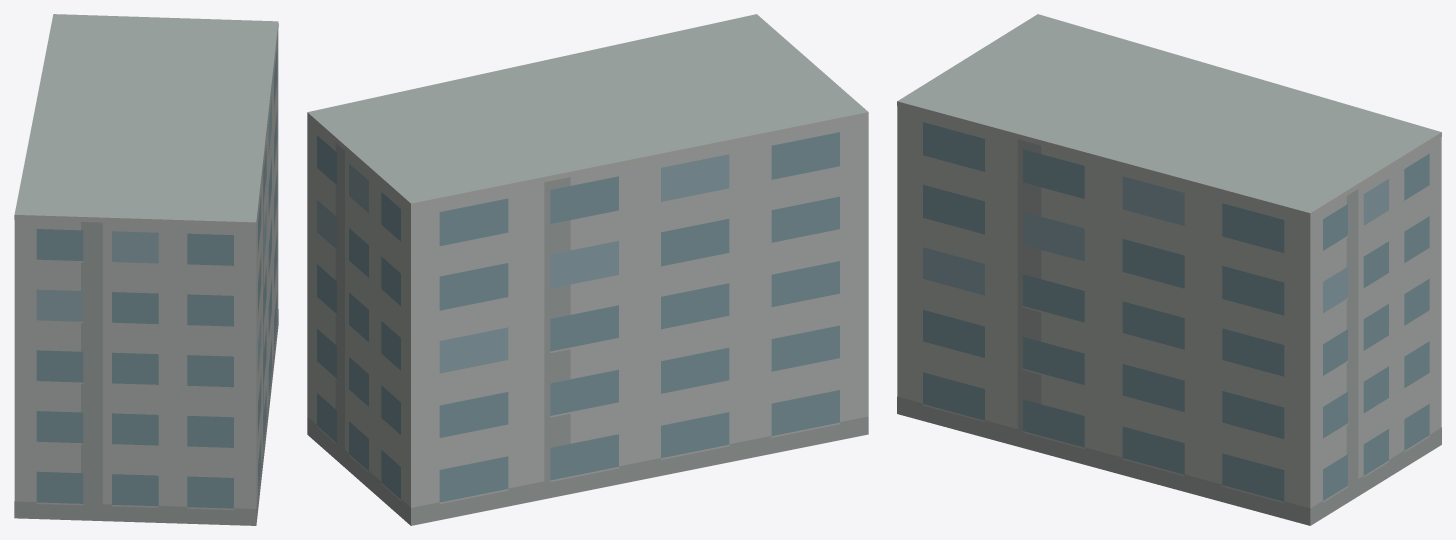
The model's file is survey-upis-32650854.glb.
3 views of the same model, side by side, from view 1: azimuth 30°, elevation 25°; view 2: azimuth 150°, elevation 25°; view 3: azimuth 270°, elevation 25° (orthographic). The views are drawn at different scales.
Parts seen in each view (by area): view 1: survey-upis-32650854.tmp; view 2: survey-upis-32650854.tmp; view 3: survey-upis-32650854.tmp.
Part boxes in pixels (box(x1,y1,x2,y2)): survey-upis-32650854.tmp: box(14, 14, 278, 525); survey-upis-32650854.tmp: box(307, 14, 868, 525); survey-upis-32650854.tmp: box(897, 14, 1441, 525).
Bounding box in the file's own units: 20.09 × 14.7 × 23.21.
